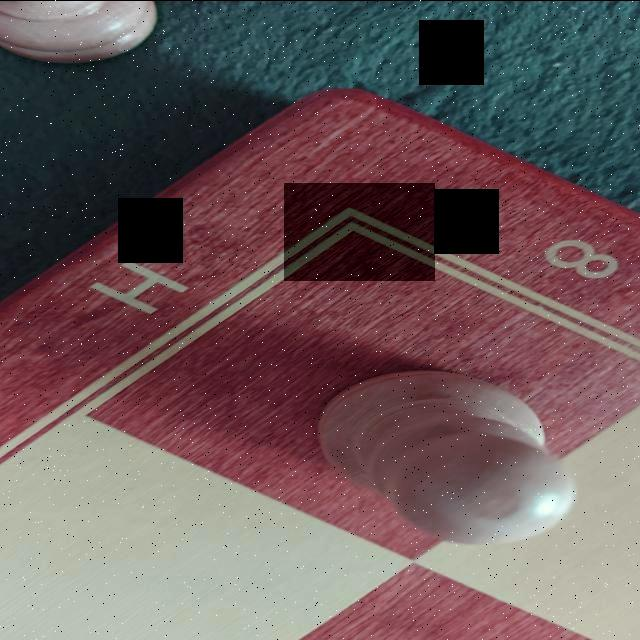chess-table-corners: (284, 182, 435, 280)
